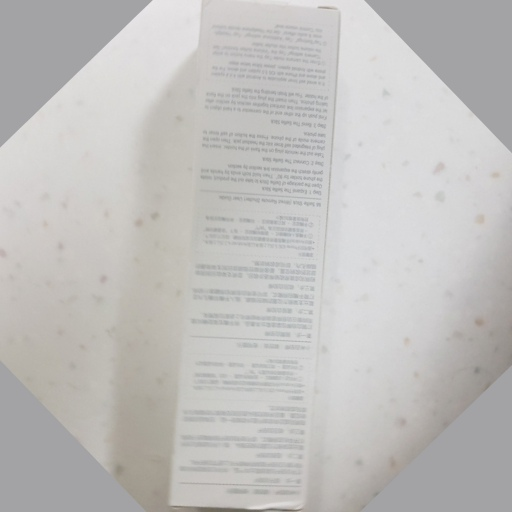Paper_0: (162, 1, 347, 512)
